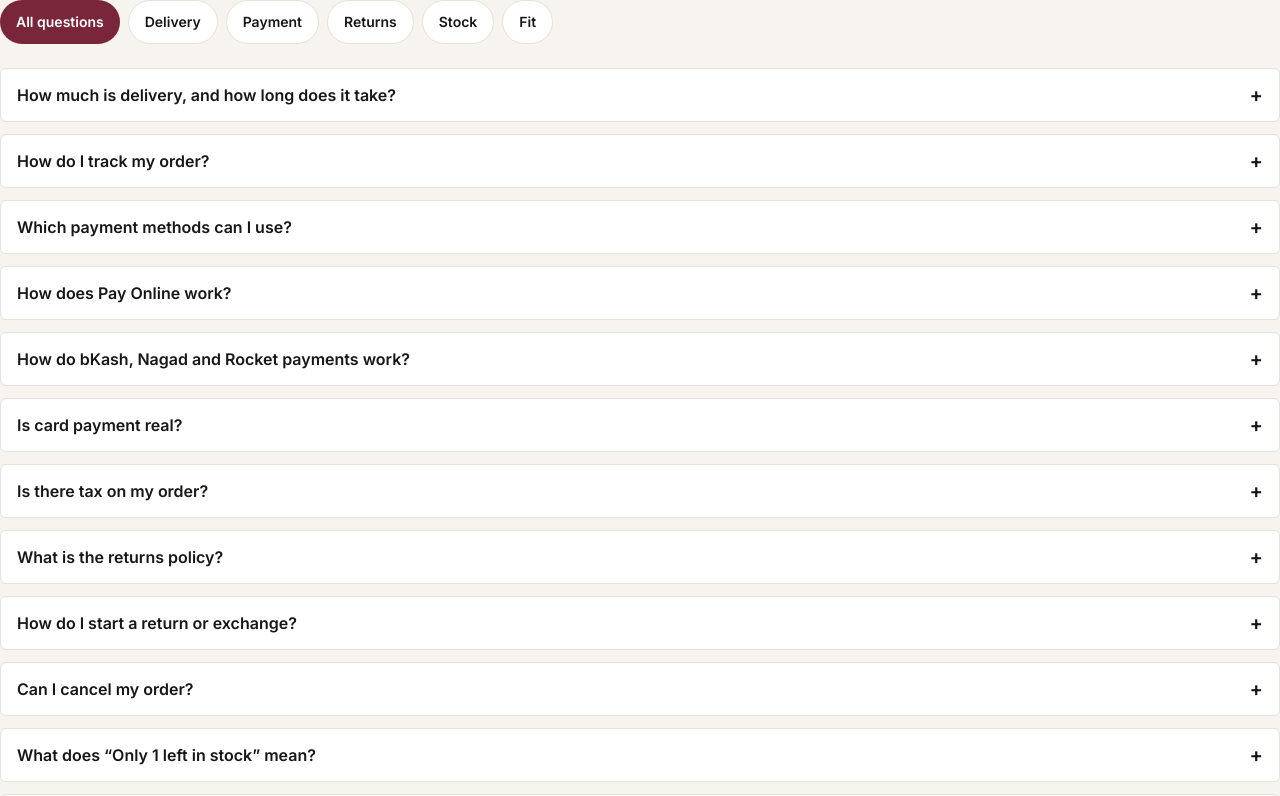
Help / FAQ (S-5, T-50) › filtering by a category hides other topics' questions
Click the button "Payment": coordinates (272, 22) [226, 0, 319, 44]
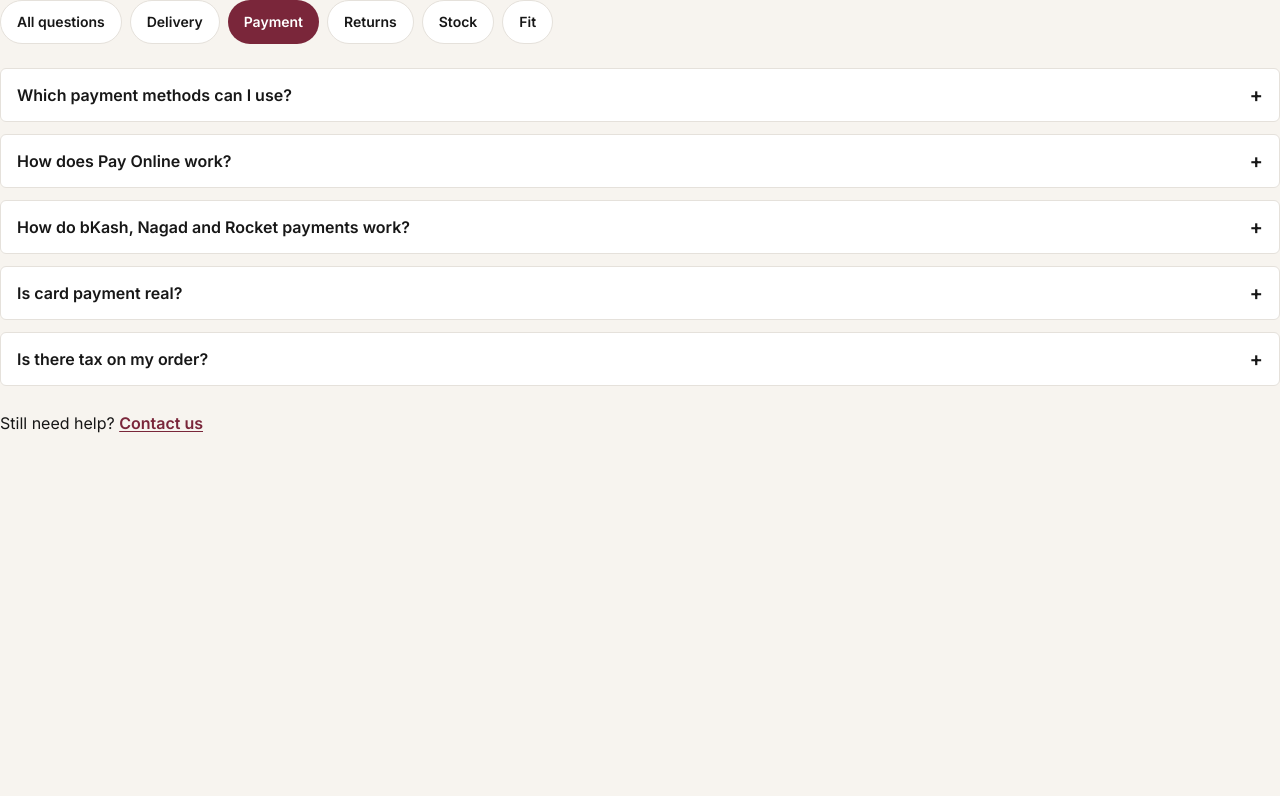
Expected: the button "Which payment methods can I use? +" is shown, [1, 69, 1279, 121]
Expected: the button "How much is delivery, and how long does it take?" is gone
Expected: the button "What is the returns policy?" is gone
